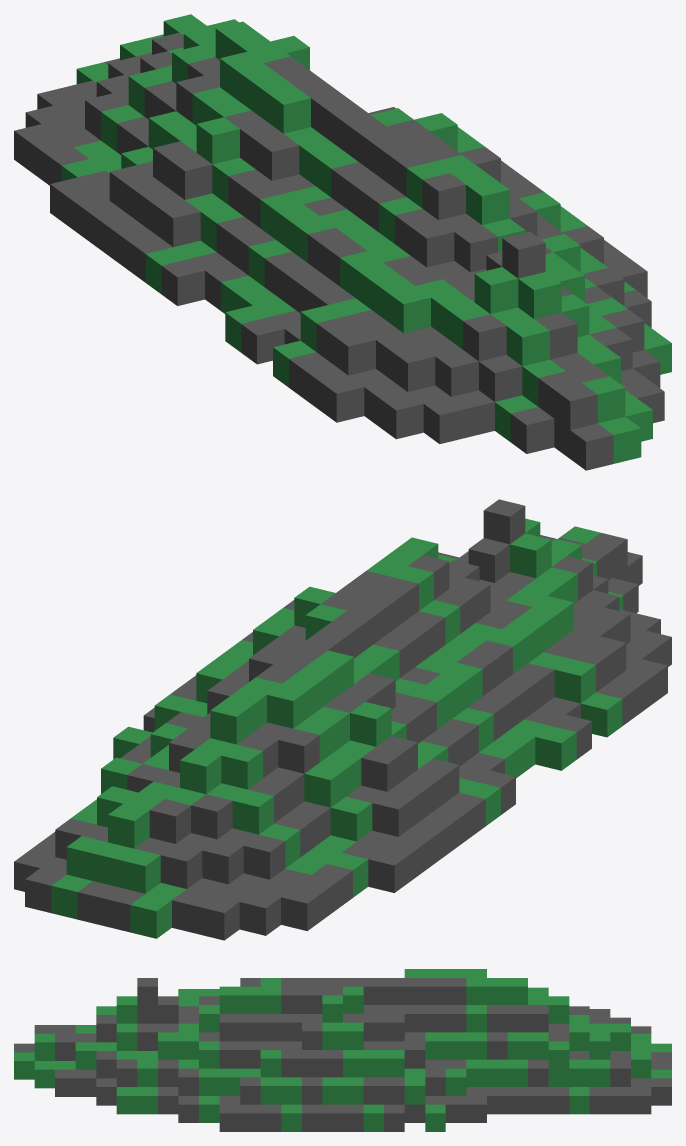
The model's file is Hill2.obj.
The picture shows the model from 3 angles, top to bottom: view 1: azimuth 30°, elevation 25°; view 2: azimuth 150°, elevation 25°; view 3: azimuth 270°, elevation 25°; orthographic projection. The views are drawn at different scales.
Parts seen in each view (by area): view 1: Hill2; view 2: Hill2; view 3: Hill2.
Boxes of the visible parts, left/top/right/bottom form: Hill2: left=14, top=14, right=671, bottom=470; Hill2: left=14, top=499, right=671, bottom=940; Hill2: left=14, top=969, right=671, bottom=1131.
Size of the model in its own units: 13 by 5 by 32.
1 material, 1 textured.
